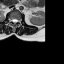CCS_normal: (13, 16, 15, 26)
LFS_normal: (17, 16, 19, 24)
LLS_normal: (15, 16, 18, 24)
RFS_normal: (9, 15, 11, 24)
RLS_normal: (11, 17, 13, 24)
